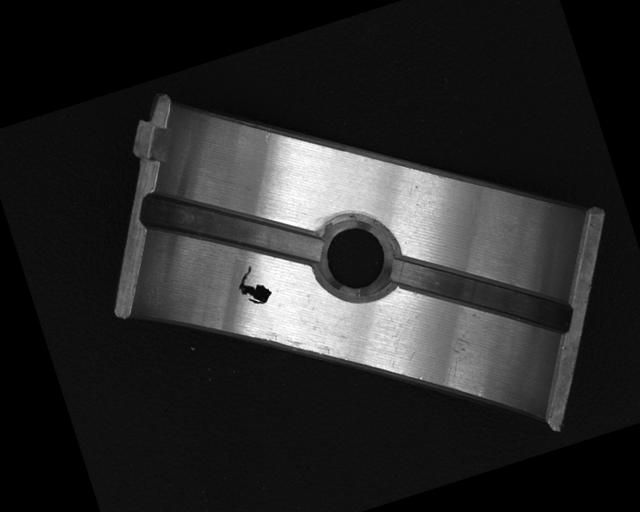blot: (232, 260, 275, 310)
gap: (384, 213, 576, 375), (137, 148, 325, 307)
hole: (308, 210, 398, 304)
